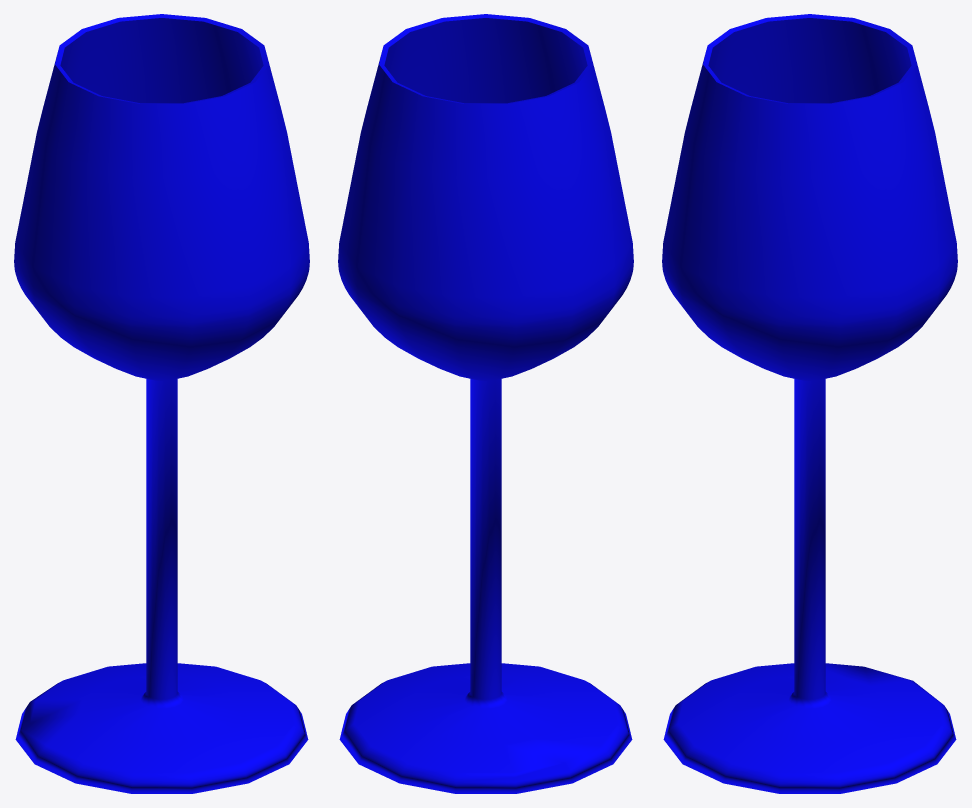
Rendered from glass_singleMat.fbx.
3 renders of one model, left to right at view 1: azimuth 30°, elevation 25°; view 2: azimuth 150°, elevation 25°; view 3: azimuth 270°, elevation 25°, orthographic.
Visible parts, largest first — view 1: glass_singleMat; view 2: glass_singleMat; view 3: glass_singleMat.
Part boxes in pixels (left/top/right/bottom): glass_singleMat: left=14, top=14, right=309, bottom=793; glass_singleMat: left=338, top=14, right=633, bottom=793; glass_singleMat: left=662, top=14, right=957, bottom=793.
Bounding box in the file's own units: 165 × 166 × 416.
